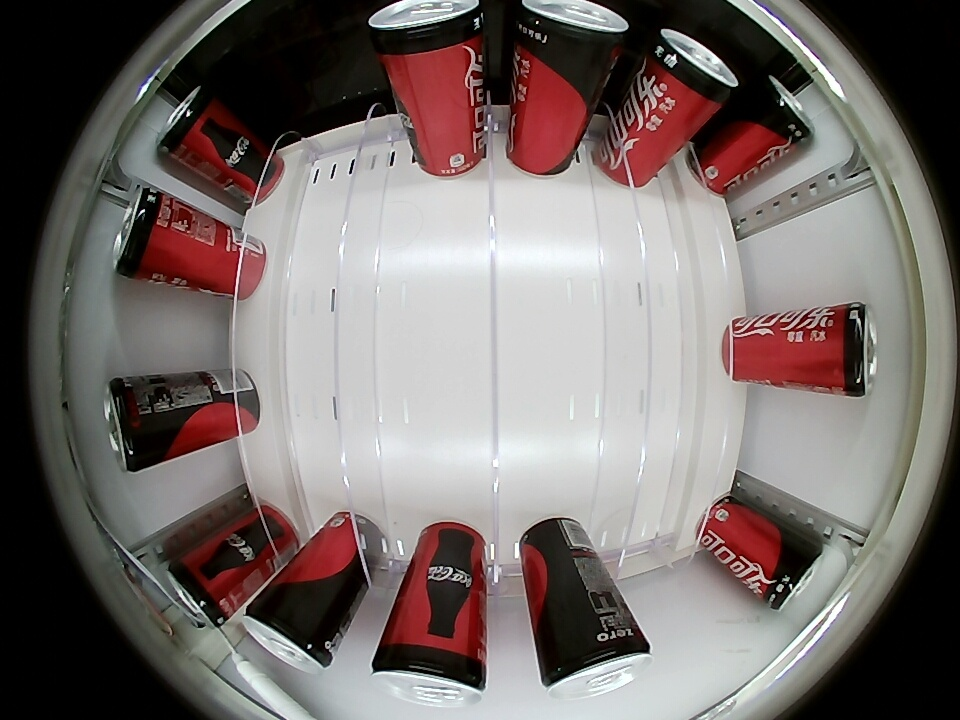lingdukele: (541, 623, 654, 699), (511, 0, 631, 70), (372, 635, 488, 707), (241, 590, 340, 674), (642, 28, 739, 110), (369, 0, 485, 65), (113, 187, 180, 285), (166, 545, 240, 630), (813, 302, 877, 398), (106, 377, 169, 473), (157, 86, 225, 170), (758, 532, 825, 612), (751, 72, 812, 156)
